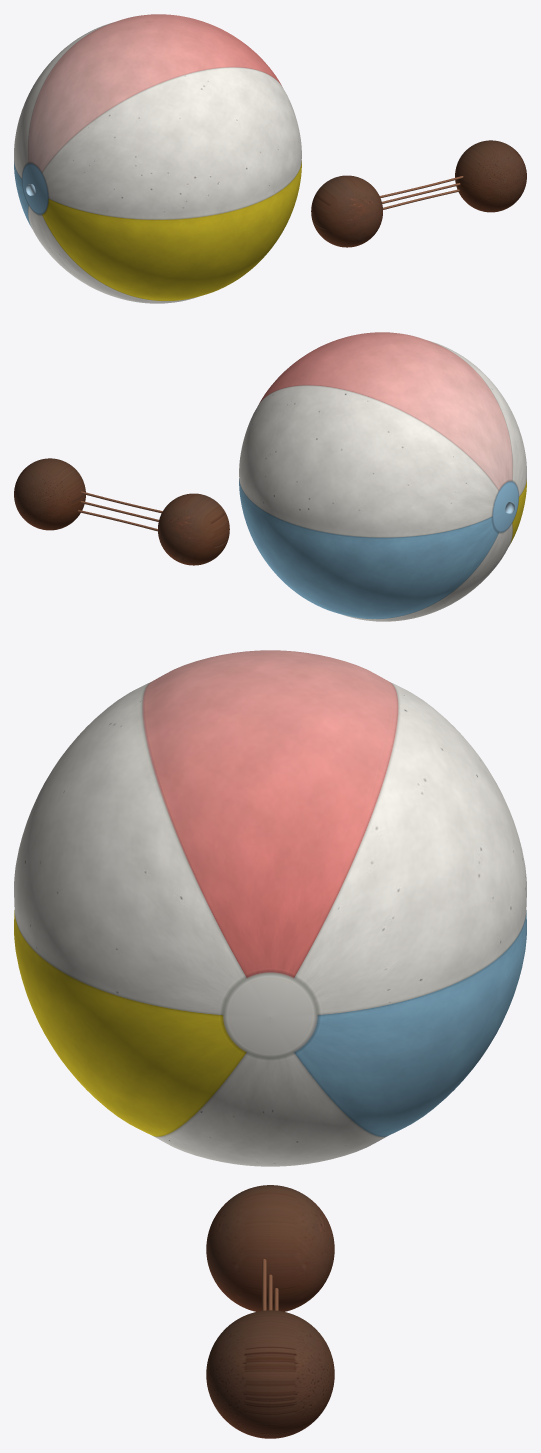
The model's file is bola_e_molecula_12_web.glb.
3 views of the same model, one above another, from view 1: azimuth 30°, elevation 25°; view 2: azimuth 150°, elevation 25°; view 3: azimuth 270°, elevation 25° (orthographic). The views are drawn at different scales.
Parts seen in each view (by area): view 1: Bola, Molecula_N2; view 2: Bola, Molecula_N2; view 3: Bola, Molecula_N2.
Boxes of the visible parts, left/top/right/bottom form: Bola: left=14, top=14, right=301, bottom=303; Molecula_N2: left=311, top=140, right=526, bottom=247; Bola: left=239, top=332, right=526, bottom=621; Molecula_N2: left=14, top=458, right=229, bottom=565; Bola: left=14, top=650, right=526, bottom=1166; Molecula_N2: left=206, top=1185, right=334, bottom=1438.
Bounding box in the file's own units: 0.5941 × 0.3018 × 0.2994.
5 materials, 3 textured.
